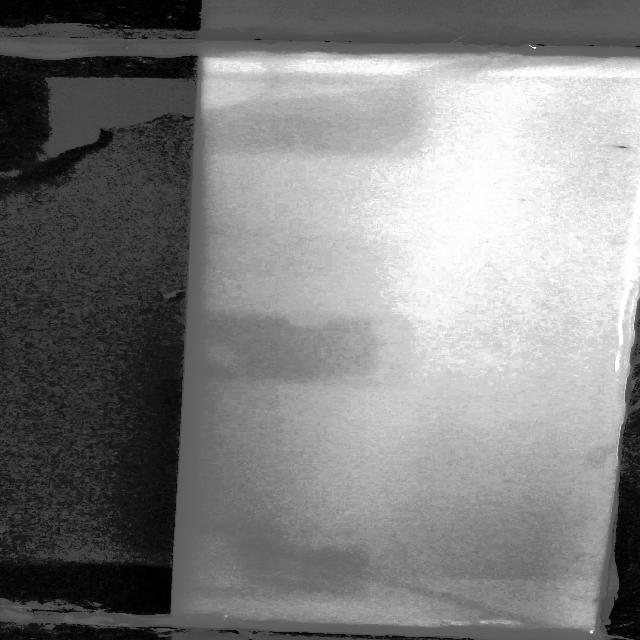shrimp: (604, 144, 630, 153)
